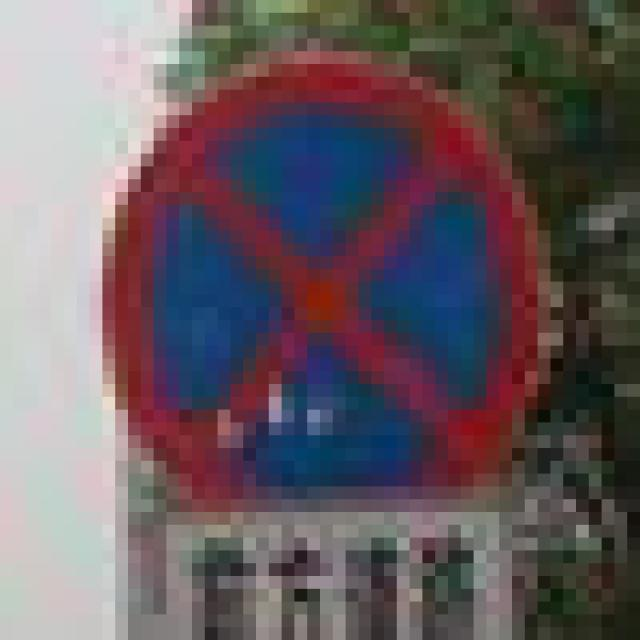no stopping or standing: (85, 50, 564, 510)
